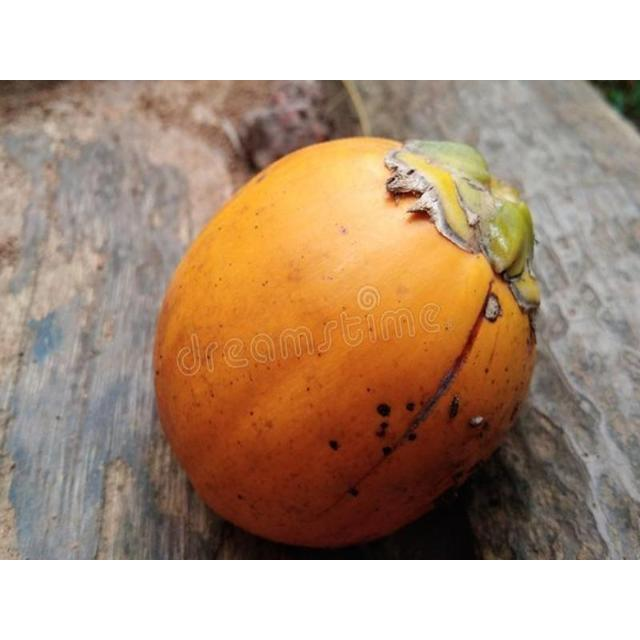good: (152, 137, 541, 552)
